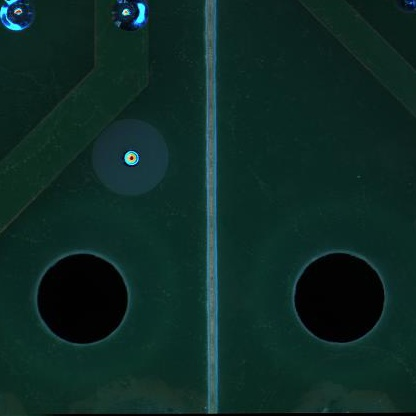spot: (105, 1, 152, 32), (1, 1, 35, 32)
